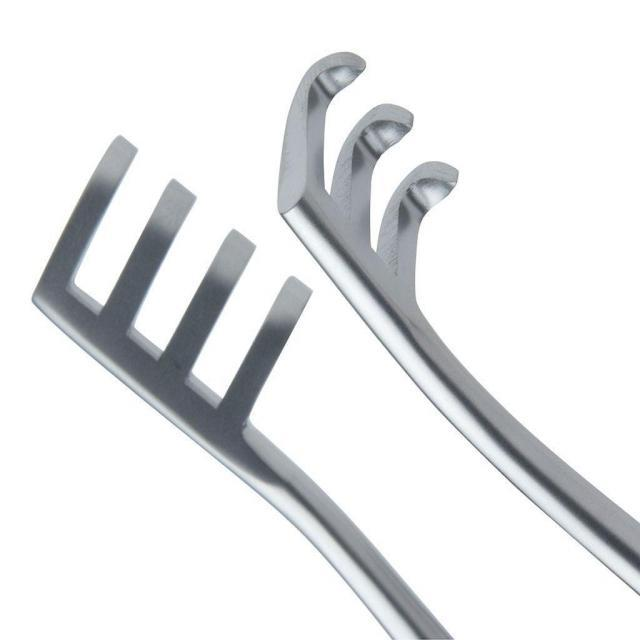Weitlaner: (27, 50, 640, 632)
